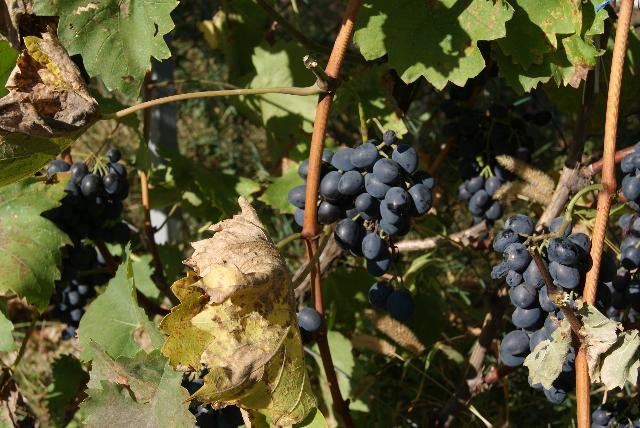grapes: (491, 215, 590, 404), (318, 130, 435, 276), (42, 160, 112, 340)
